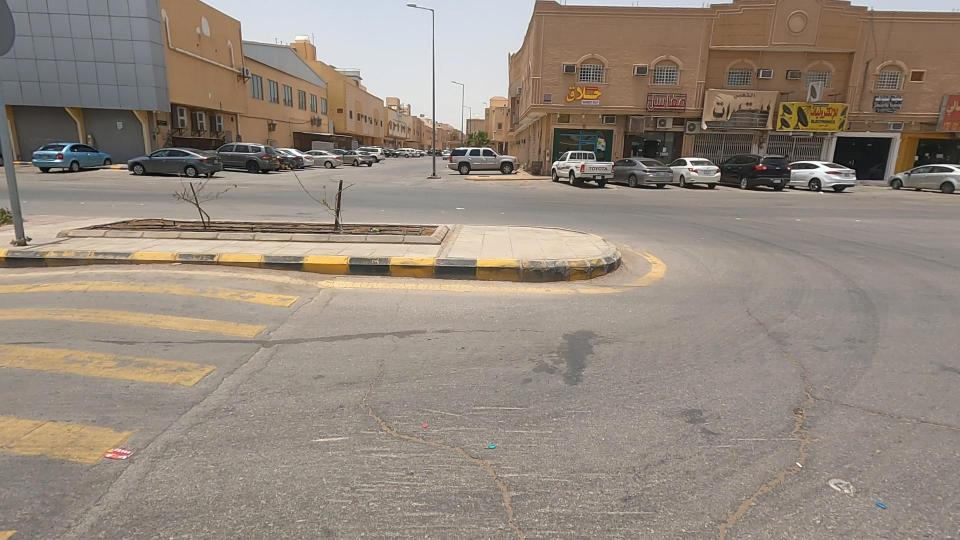CLUTTER_SIDEWALK: (0, 165, 580, 286)
